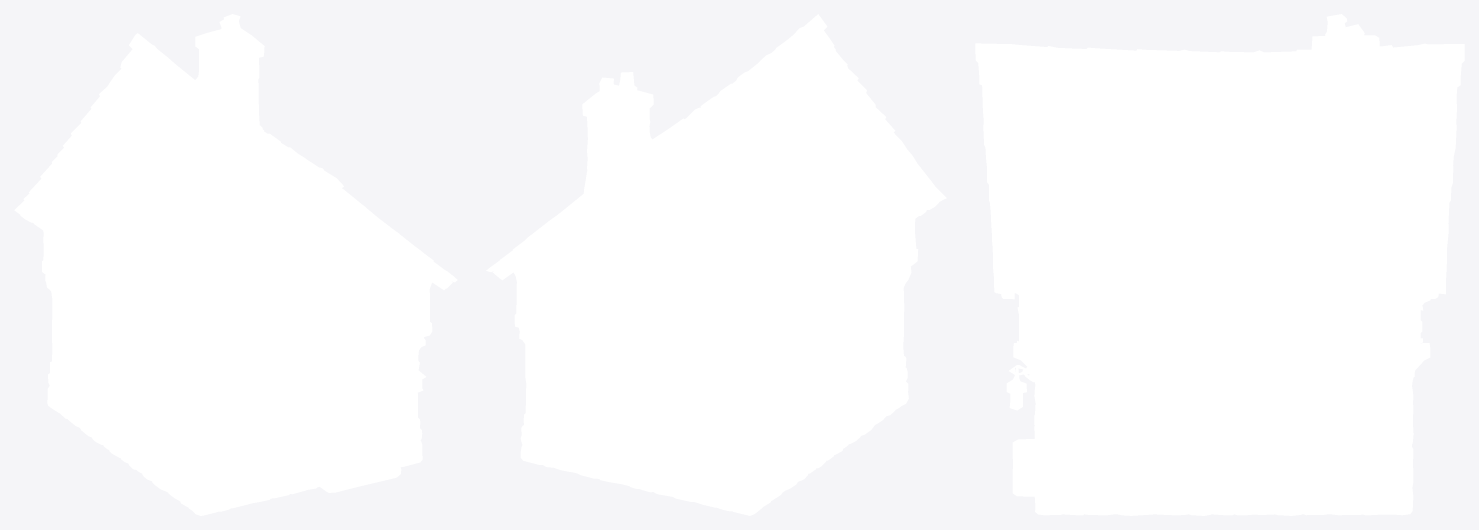
File: house_a.glb
The picture shows the model from 3 angles, left to right: view 1: azimuth 30°, elevation 25°; view 2: azimuth 150°, elevation 25°; view 3: azimuth 270°, elevation 25°; orthographic projection. The views are drawn at different scales.
Parts seen in each view (by area): view 1: lod0; view 2: lod0; view 3: lod0.
Part boxes in pixels (x1,y1,x2,y2): lod0: (14, 14, 457, 515); lod0: (486, 14, 946, 515); lod0: (975, 14, 1464, 515).
Size of what is drawn, in the model's own units: 5.95 by 8 by 7.81.
Materials: 1 (1 with a texture image).
